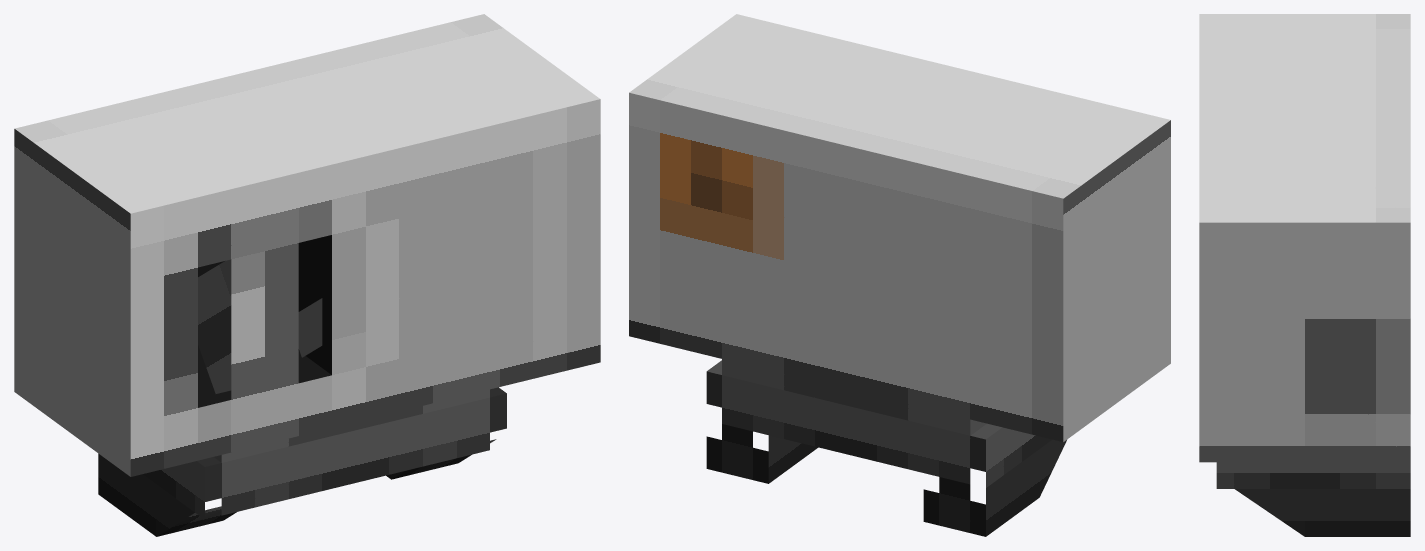
The model's file is Air_Conditioner-03.gltf.
3 renders of one model, left to right at view 1: azimuth 30°, elevation 25°; view 2: azimuth 150°, elevation 25°; view 3: azimuth 270°, elevation 25°, orthographic. The views are drawn at different scales.
Visible parts, largest first — view 1: Air_Conditioner-03, Air_Conditioner-03-Fan; view 2: Air_Conditioner-03; view 3: Air_Conditioner-03.
Part boxes in pixels (x1,y1,x2,y2): Air_Conditioner-03: [14, 14, 600, 536]; Air_Conditioner-03-Fan: [198, 259, 322, 393]; Air_Conditioner-03: [629, 14, 1170, 536]; Air_Conditioner-03: [1199, 14, 1410, 536].
Bounding box in the file's own units: 0.7 × 0.55 × 0.3.
Materials: 1 (1 with a texture image).
